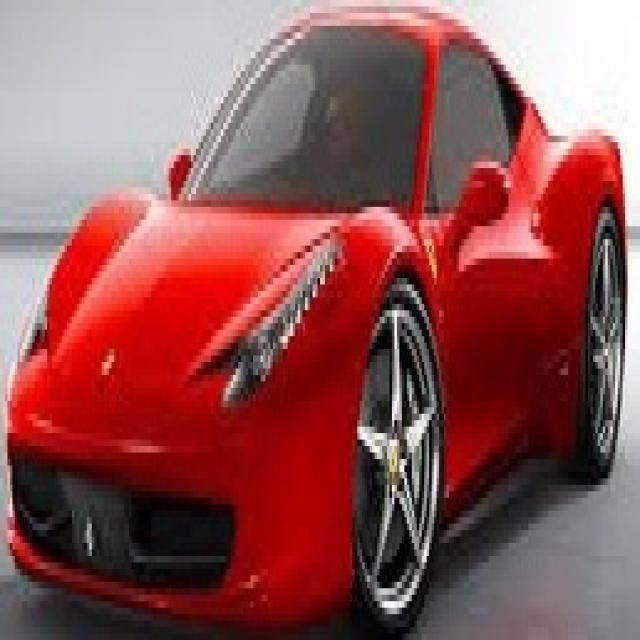red: (6, 0, 630, 639)
